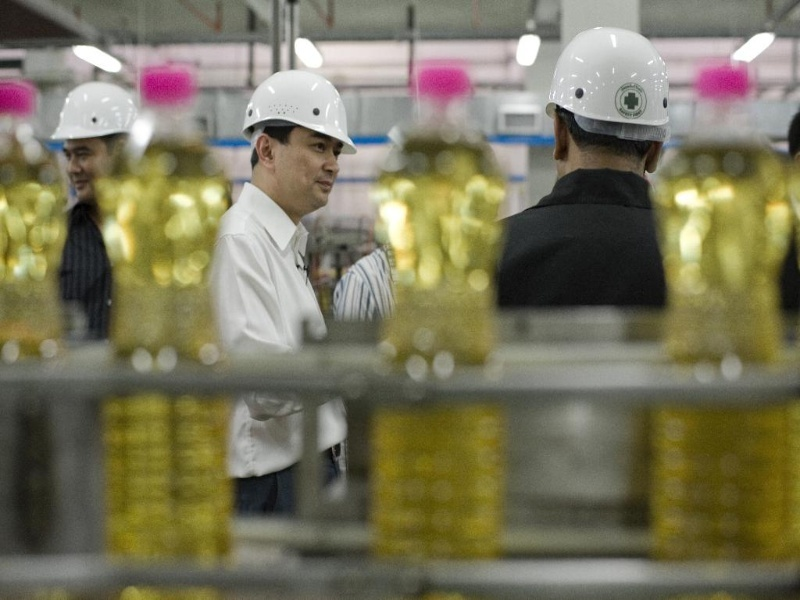Baret: (548, 27, 683, 131), (242, 73, 359, 147), (55, 82, 142, 139)
